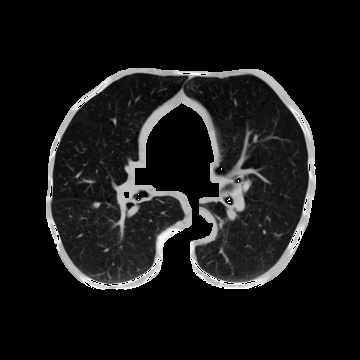PN: (92, 201, 100, 209)
